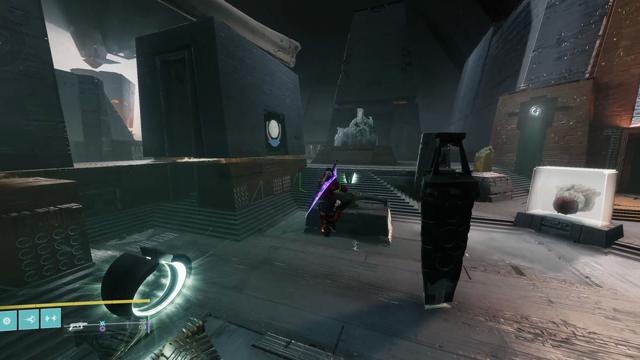traveler: (266, 119, 281, 147)
